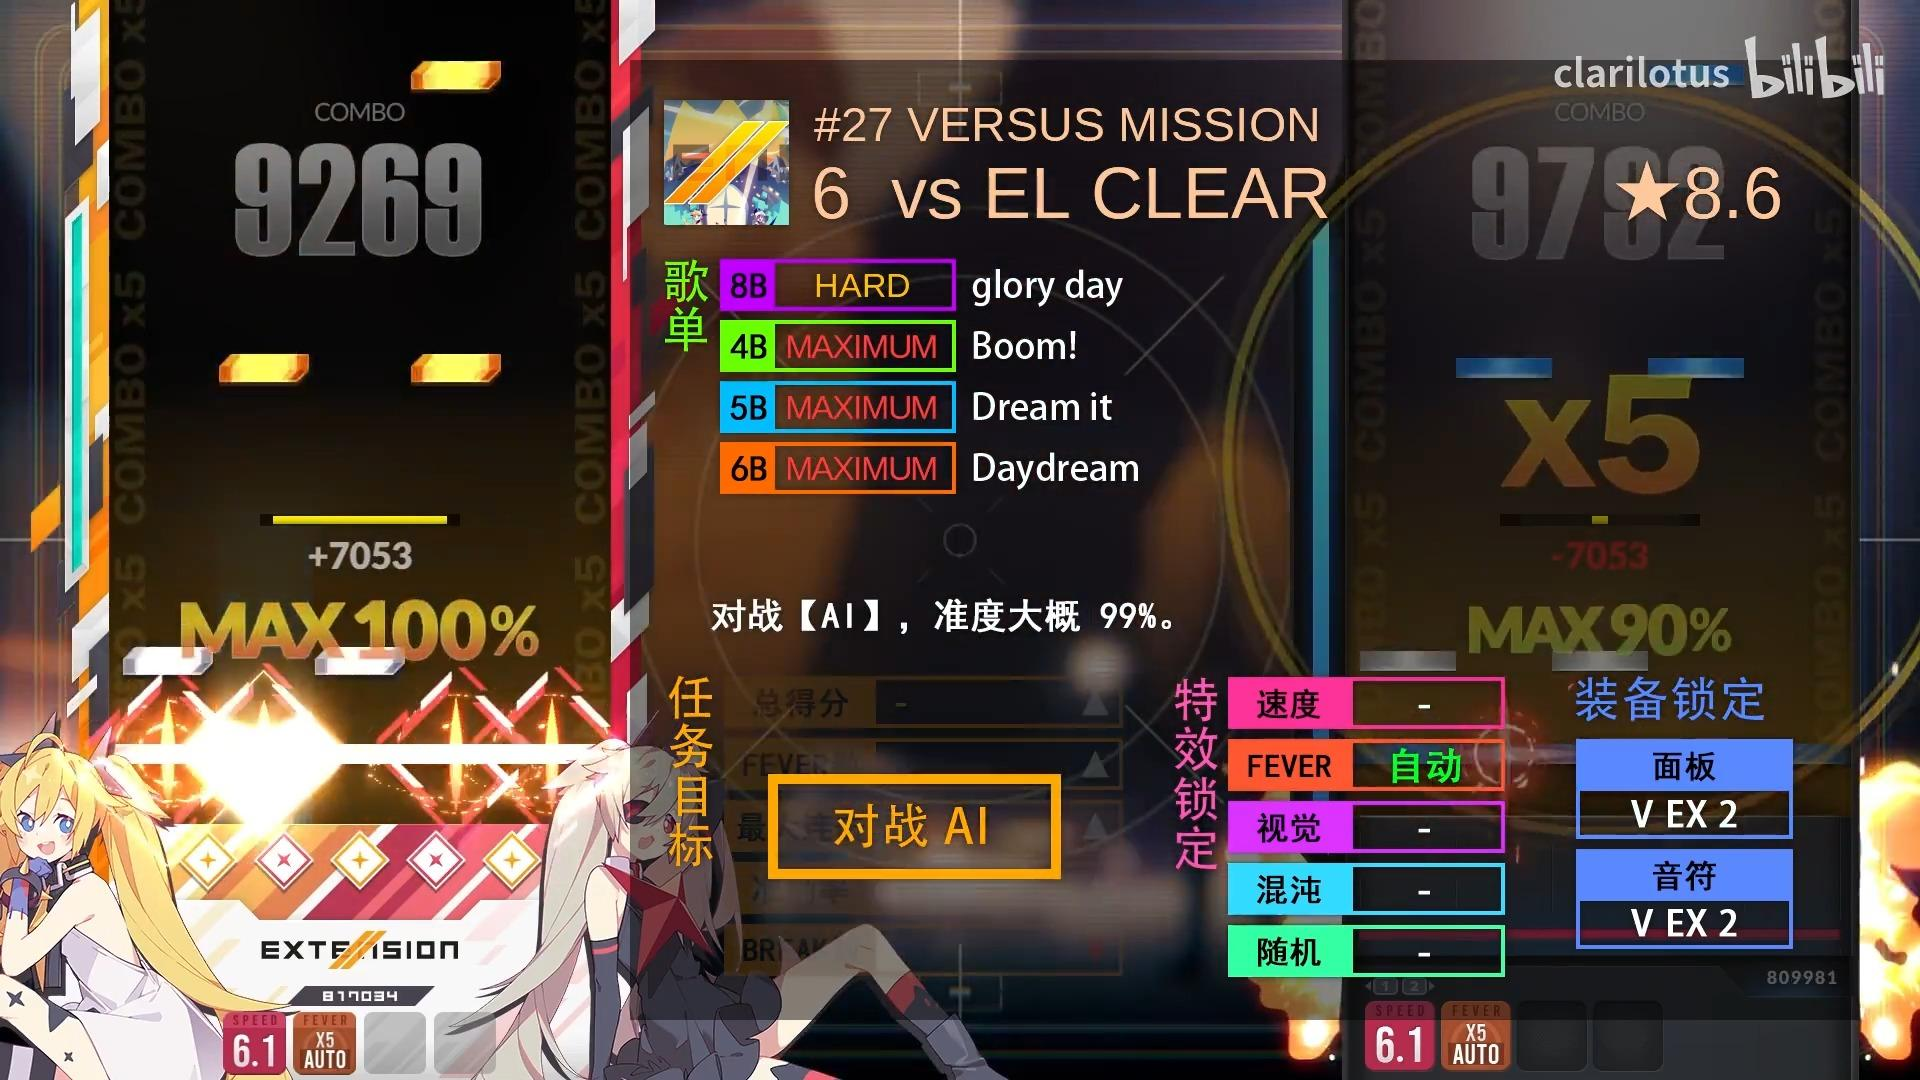note: (218, 353, 309, 384), (410, 353, 502, 382), (121, 646, 214, 675), (314, 646, 406, 675), (410, 61, 502, 90)
